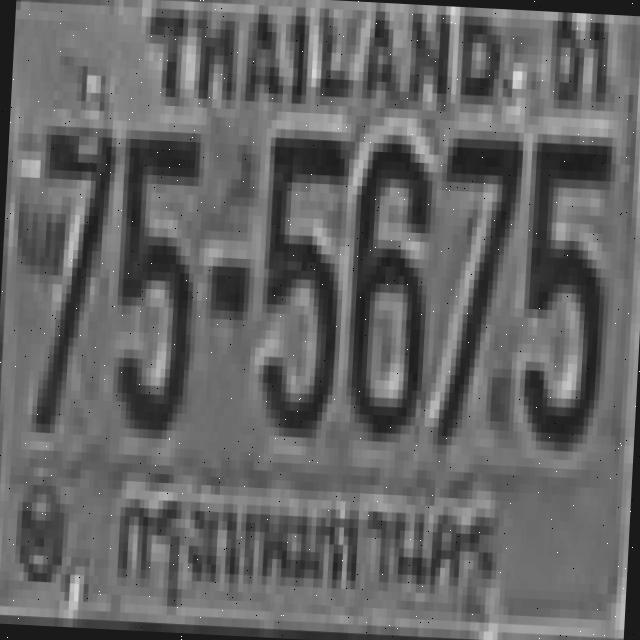5: (514, 125, 610, 444), (251, 128, 346, 430), (109, 121, 199, 432)
6: (340, 124, 430, 434)
7: (429, 129, 519, 439), (29, 117, 115, 427)
Bangkok: (107, 458, 506, 618)
